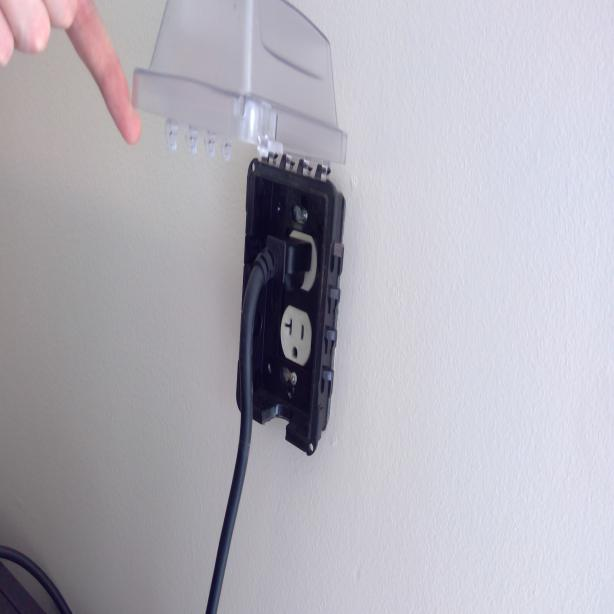typeb: (278, 310, 308, 362)
